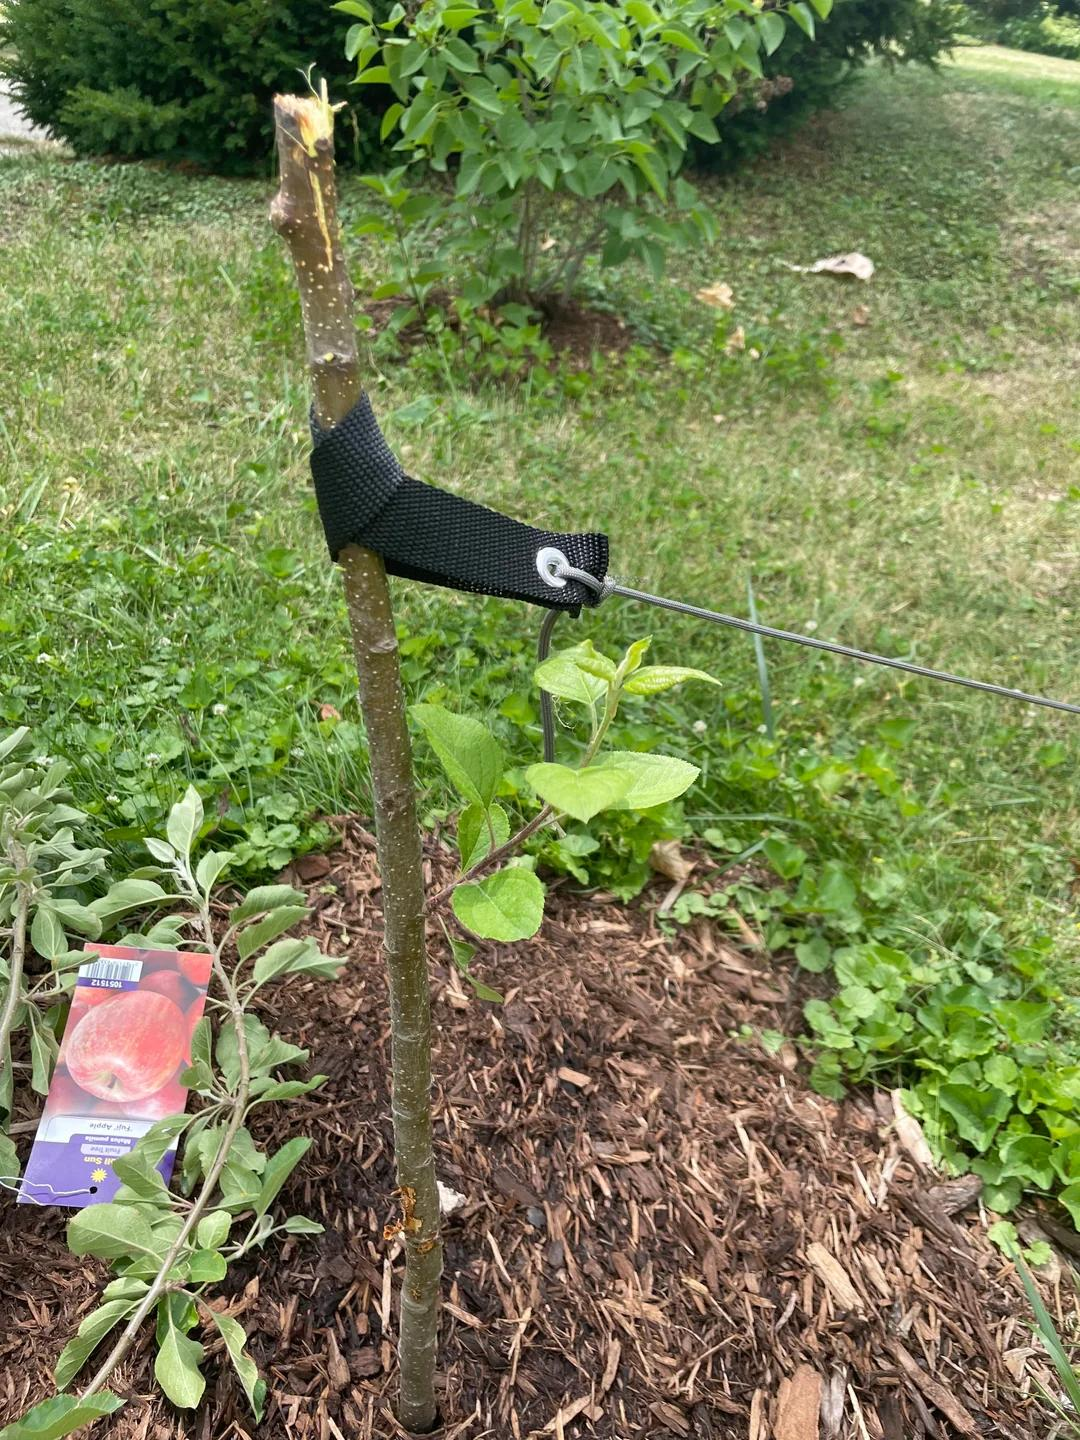mechanical damage: (282, 96, 332, 149)
